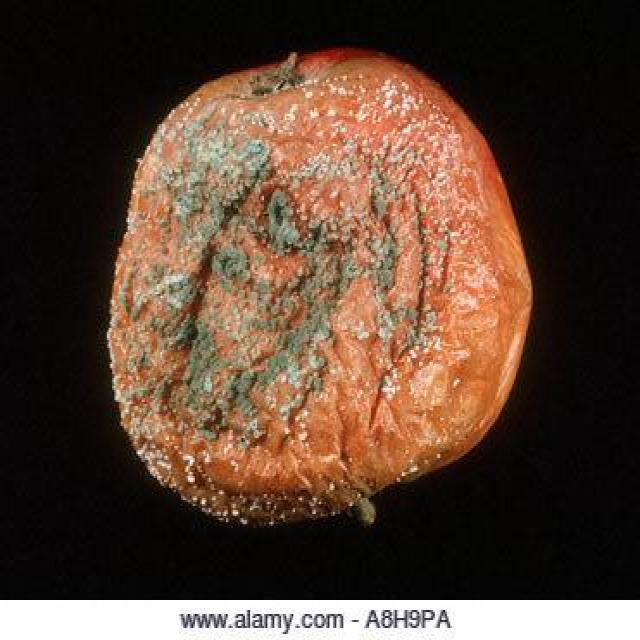Apple: (112, 68, 532, 533)
